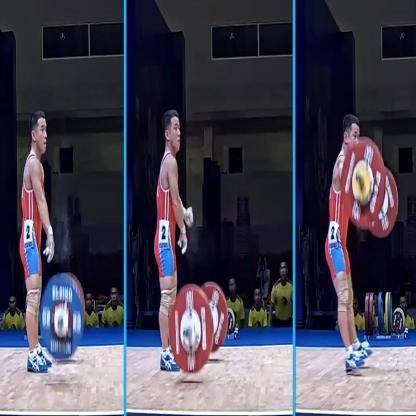barbell: (168, 282, 230, 376), (40, 272, 86, 360)
